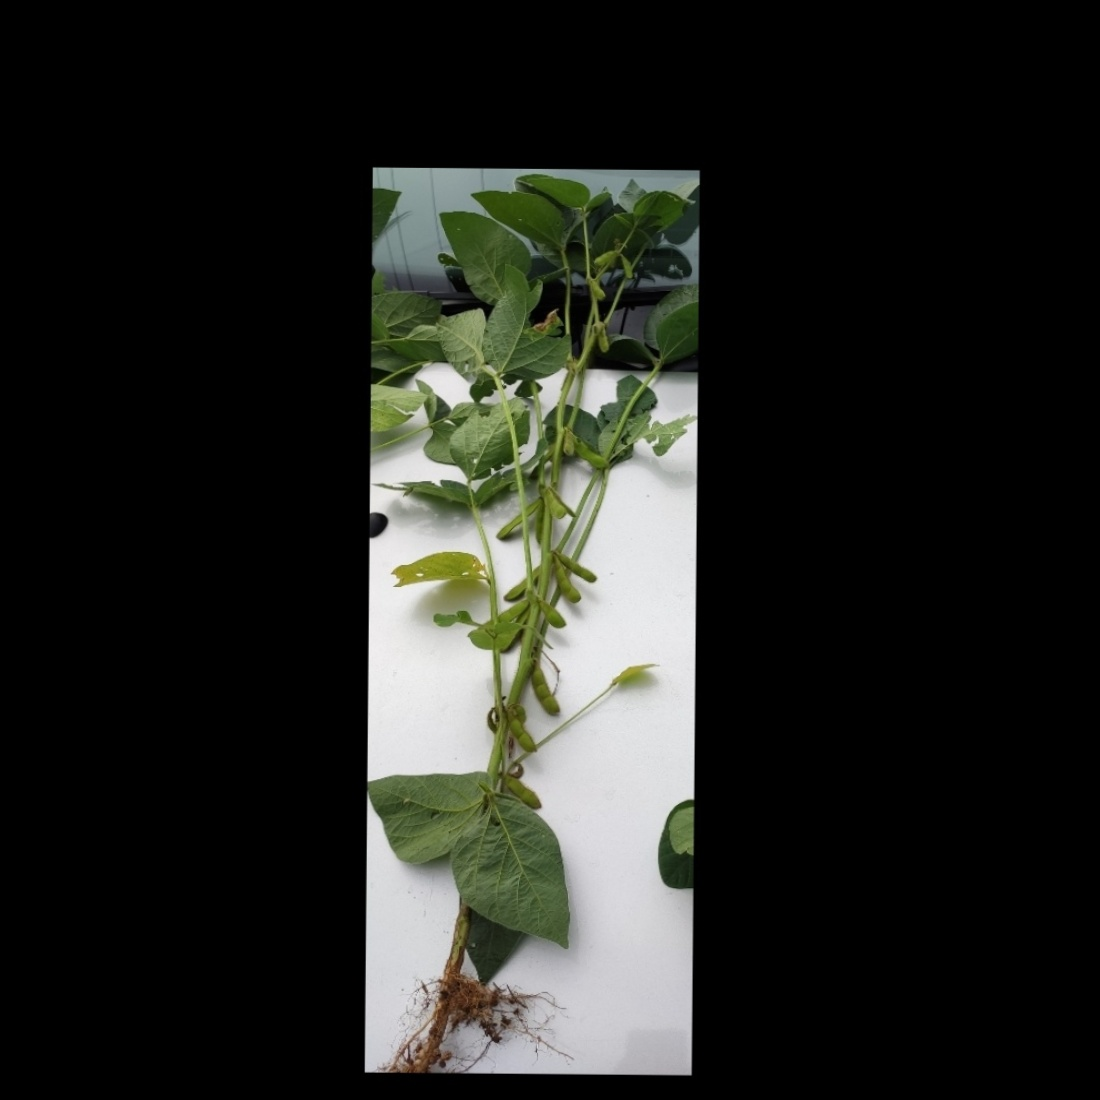pod: (492, 497, 542, 543), (500, 769, 554, 811), (529, 662, 565, 725), (556, 551, 602, 583), (559, 562, 591, 605), (508, 713, 539, 757), (573, 437, 608, 469), (536, 486, 566, 519), (594, 321, 612, 357), (585, 276, 609, 301), (590, 248, 621, 267), (618, 253, 637, 284), (561, 422, 575, 458)
soy: (374, 186, 685, 1064)
